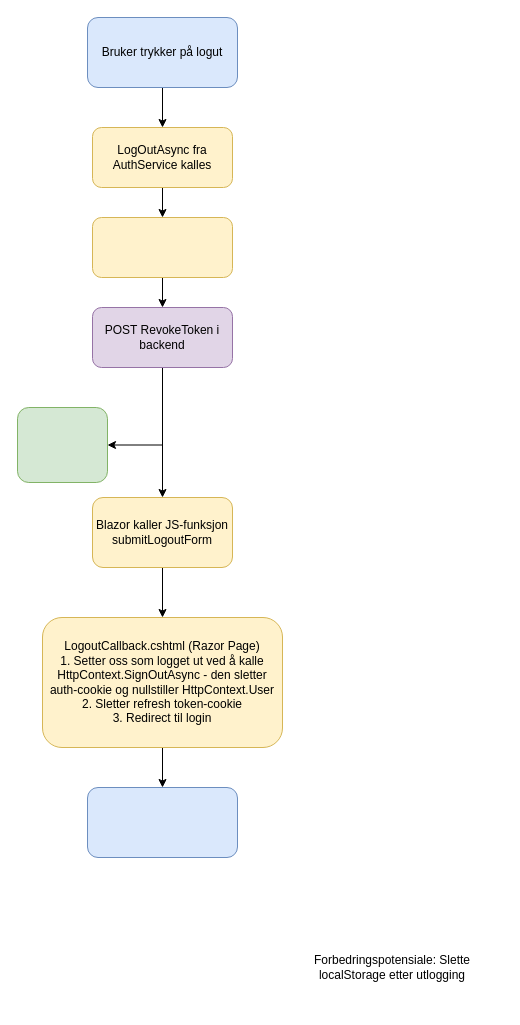
This 520x1025 diagram has some shape labels left out. The shapes that lost their labels are listed below. From the top down, each one's centre as x and y in pixels, then its label:
point (162, 247): Henter RefreshToken fra cookie
point (62, 444): Revoker token
point (162, 822): Bruker ikke autorisert
